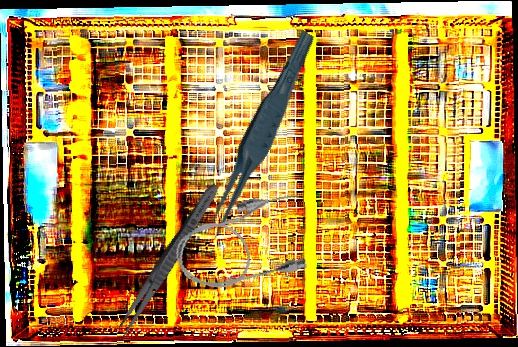Cannula: (166, 187, 317, 300)
Dressing Forceps: (111, 179, 224, 344)
Tissue Forceps: (188, 29, 330, 242)
